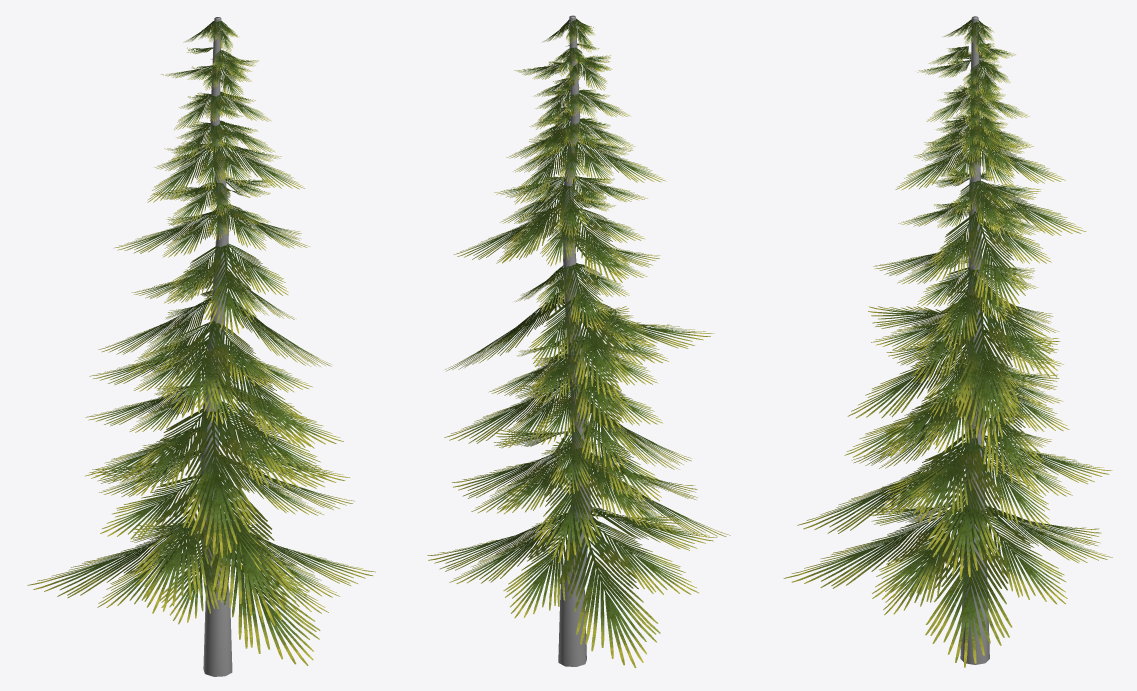
The model's file is sm_fern_tree_low.fbx.
3 views of the same model, side by side, from view 1: azimuth 30°, elevation 25°; view 2: azimuth 150°, elevation 25°; view 3: azimuth 270°, elevation 25° (orthographic).
Visible parts, largest first — view 1: sm_fernleaf_low13, sm_fernleaf_low9, sm_fernleaf_low37, sm_fern_trunk_low, sm_fernleaf_low27, sm_fernleaf_low18, sm_fernleaf_low14, sm_fernleaf_low7, sm_fernleaf_low, sm_fernleaf_low22, sm_fernleaf_low55, sm_fernleaf_low32 (+23 smaller); view 2: sm_fernleaf_low7, sm_fernleaf_low10, sm_fern_trunk_low, sm_fernleaf_low21, sm_fernleaf_low11, sm_fernleaf_low20, sm_fernleaf_low17, sm_fernleaf_low12, sm_fernleaf_low16, sm_fernleaf_low55, sm_fernleaf_low25, sm_fernleaf_low8 (+23 smaller); view 3: sm_fernleaf_low55, sm_fernleaf_low15, sm_fernleaf_low8, sm_fernleaf_low19, sm_fernleaf_low12, sm_fernleaf_low14, sm_fern_trunk_low, sm_fernleaf_low, sm_fernleaf_low26, sm_fernleaf_low29, sm_fernleaf_low16, sm_fernleaf_low10 (+25 smaller).
Boxes of the visible parts, box(x1,y1,x2,y2) form: sm_fernleaf_low13: box(131, 408, 300, 557); sm_fernleaf_low9: box(100, 472, 266, 613); sm_fernleaf_low37: box(126, 321, 274, 417); sm_fern_trunk_low: box(199, 17, 232, 676); sm_fernleaf_low27: box(194, 463, 297, 625); sm_fernleaf_low18: box(167, 243, 288, 336); sm_fernleaf_low14: box(194, 344, 314, 448); sm_fernleaf_low7: box(27, 522, 197, 607); sm_fernleaf_low: box(210, 533, 320, 665); sm_fernleaf_low22: box(217, 399, 328, 480); sm_fernleaf_low55: box(229, 524, 375, 597); sm_fernleaf_low32: box(147, 144, 225, 202); sm_fernleaf_low7: box(503, 517, 698, 667); sm_fernleaf_low10: box(497, 448, 646, 562); sm_fern_trunk_low: box(558, 15, 590, 666); sm_fernleaf_low21: box(528, 295, 656, 400); sm_fernleaf_low11: box(535, 377, 662, 471); sm_fernleaf_low20: box(530, 336, 657, 431); sm_fernleaf_low17: box(540, 208, 645, 282); sm_fernleaf_low12: box(444, 377, 571, 448); sm_fernleaf_low16: box(500, 185, 589, 262); sm_fernleaf_low55: box(427, 512, 597, 583); sm_fernleaf_low25: box(536, 263, 629, 331); sm_fernleaf_low8: box(452, 438, 597, 513); sm_fernleaf_low55: box(872, 508, 1067, 667); sm_fernleaf_low15: box(912, 289, 1057, 452); sm_fernleaf_low8: box(881, 442, 1050, 579); sm_fernleaf_low19: box(929, 211, 1051, 313); sm_fernleaf_low12: box(927, 375, 1069, 489); sm_fernleaf_low14: box(847, 334, 978, 418); sm_fern_trunk_low: box(960, 16, 989, 664); sm_fernleaf_low: box(783, 507, 956, 588); sm_fernleaf_low26: box(917, 267, 1009, 350); sm_fernleaf_low29: box(906, 429, 983, 523); sm_fernleaf_low16: box(976, 183, 1086, 240); sm_fernleaf_low10: box(984, 433, 1112, 496).
Bounding box in the file's own units: 662 × 1385 × 685.
